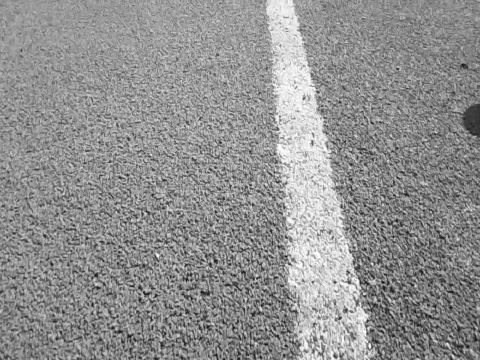Lines: (265, 0, 375, 360)
